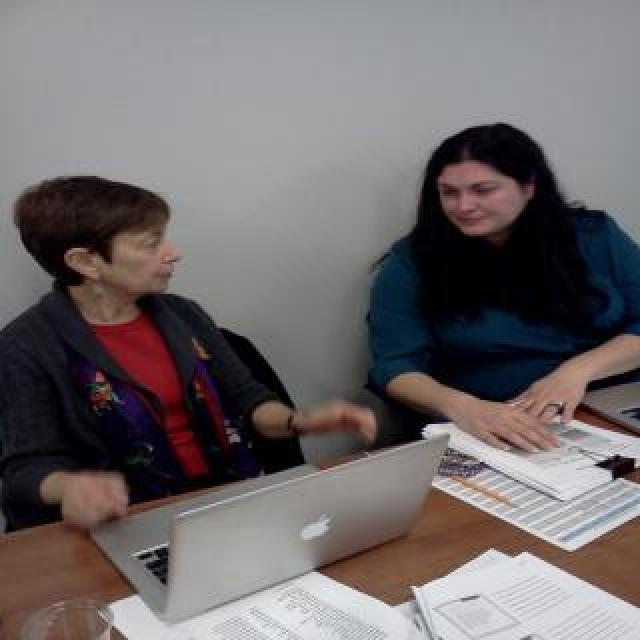laptop_computer: (70, 407, 450, 608)
